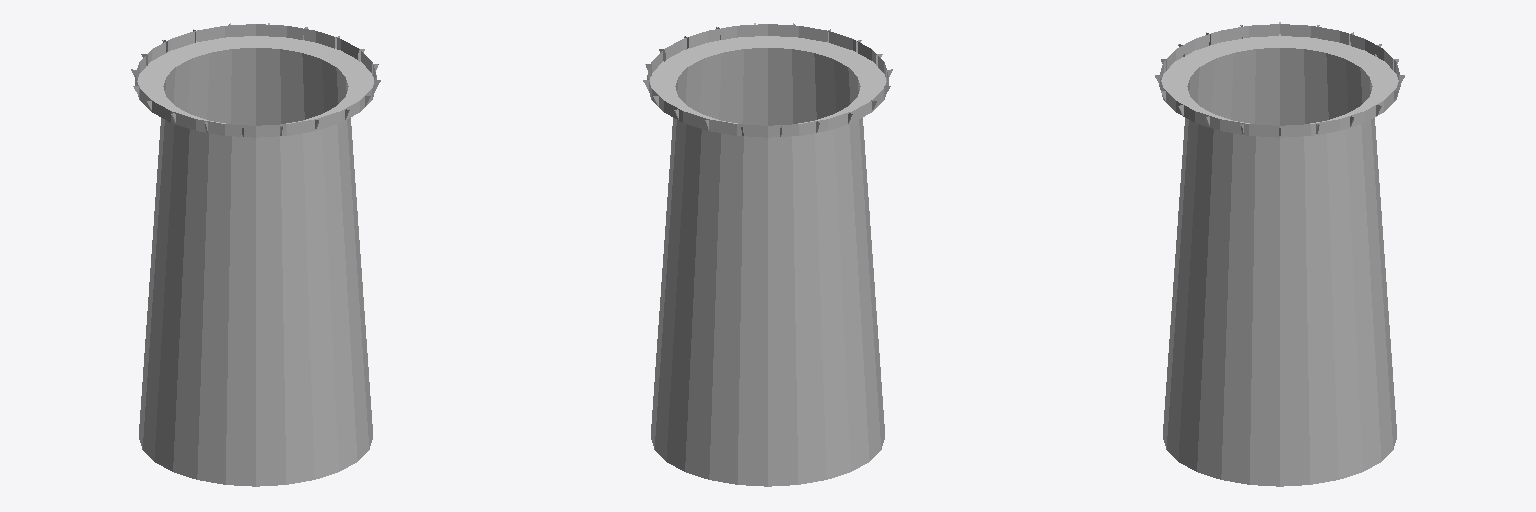
The model's file is foundation.obj.
3 views of the same model, side by side, from view 1: azimuth 30°, elevation 25°; view 2: azimuth 150°, elevation 25°; view 3: azimuth 270°, elevation 25° (orthographic).
Visible parts, largest first — view 1: Stand; view 2: Stand; view 3: Stand.
Part boxes in pixels (left/top/right/bottom): Stand: left=131, top=23, right=380, bottom=486; Stand: left=643, top=23, right=892, bottom=486; Stand: left=1155, top=22, right=1404, bottom=486.
Bounding box in the file's own units: 1.14 × 1.82 × 1.14.